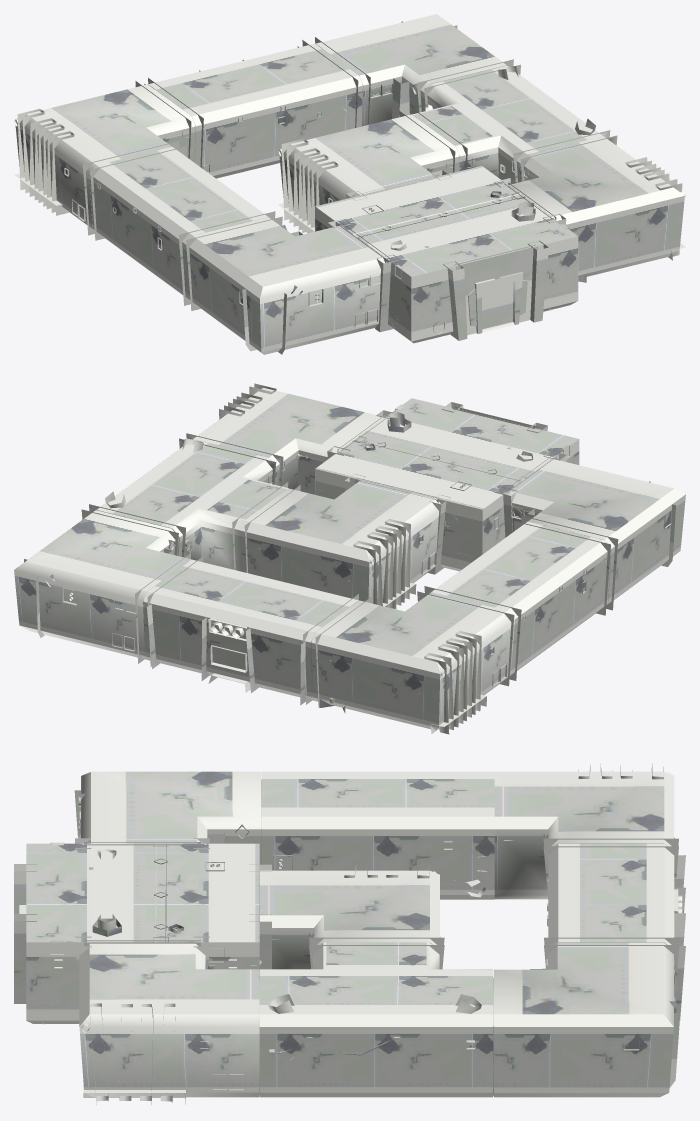
The model's file is Combined_Mesh_root_scene__20_a4a1e6c2__zombies2_diffuse_11_814463c1_c1f257.obj.
The picture shows the model from 3 angles, top to bottom: view 1: azimuth 30°, elevation 25°; view 2: azimuth 150°, elevation 25°; view 3: azimuth 270°, elevation 25°; orthographic projection. The views are drawn at different scales.
Size of the model in its own units: 51.83 by 9.64 by 57.56.
Materials: 132 (132 with a texture image).
